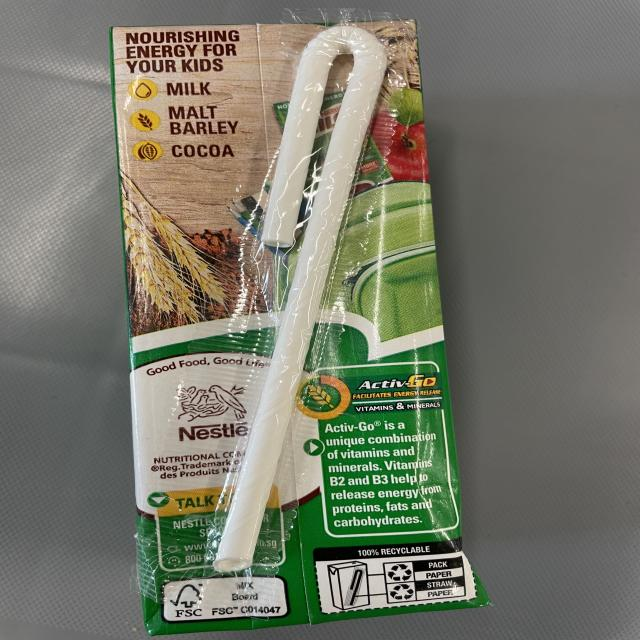object_name: (110, 24, 476, 612)
